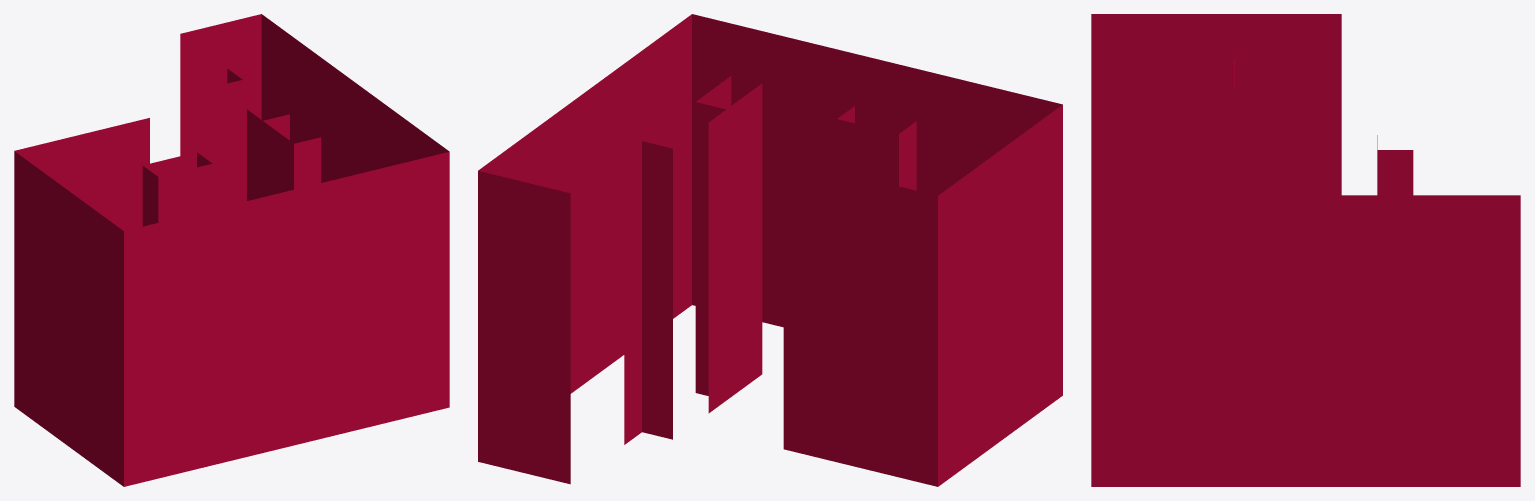
Rendered from main hall cubed extended walls.fbx.
3 renders of one model, left to right at view 1: azimuth 30°, elevation 25°; view 2: azimuth 150°, elevation 25°; view 3: azimuth 270°, elevation 25°, orthographic. The views are drawn at different scales.
Parts seen in each view (by area): view 1: pCube2, pCube3, pCube1, pCube5, pCube4, pCube7, pCube12, pCube11, pCube10, pCube14, pCube15, pCube9; view 2: pCube4, pCube3, pCube2, pCube1, pCube5, pCube12, pCube7, pCube6, pCube8, pCube15, pCube14, pCube11 (+1 smaller); view 3: pCube1, pCube3, pCube9, pCube12, pCube6, pCube13, pCube14.
Boxes of the visible parts, <box> form: pCube2: <box>124,152,449,486</box>; pCube3: <box>14,151,123,486</box>; pCube1: <box>261,14,449,182</box>; pCube5: <box>180,14,261,209</box>; pCube4: <box>14,118,149,230</box>; pCube7: <box>215,80,242,208</box>; pCube12: <box>247,109,293,200</box>; pCube11: <box>158,163,212,222</box>; pCube10: <box>294,137,321,189</box>; pCube14: <box>142,166,158,226</box>; pCube15: <box>143,152,196,176</box>; pCube9: <box>290,114,320,143</box>; pCube4: <box>783,158,937,486</box>; pCube3: <box>938,104,1062,486</box>; pCube2: <box>692,14,1062,327</box>; pCube1: <box>478,14,691,393</box>; pCube5: <box>478,171,570,484</box>; pCube12: <box>708,83,762,413</box>; pCube7: <box>642,141,672,439</box>; pCube6: <box>624,141,641,444</box>; pCube8: <box>695,102,725,395</box>; pCube15: <box>837,119,898,186</box>; pCube14: <box>899,121,916,190</box>; pCube11: <box>855,106,916,133</box>; pCube1: <box>1091,195,1520,486</box>; pCube3: <box>1091,14,1341,195</box>; pCube9: <box>1198,150,1270,195</box>; pCube12: <box>1198,135,1305,195</box>; pCube6: <box>1377,150,1413,195</box>; pCube13: <box>1198,89,1234,134</box>; pCube14: <box>1198,59,1234,89</box>.
Size of the model in its own units: 3.66 by 2.74 by 3.66.
